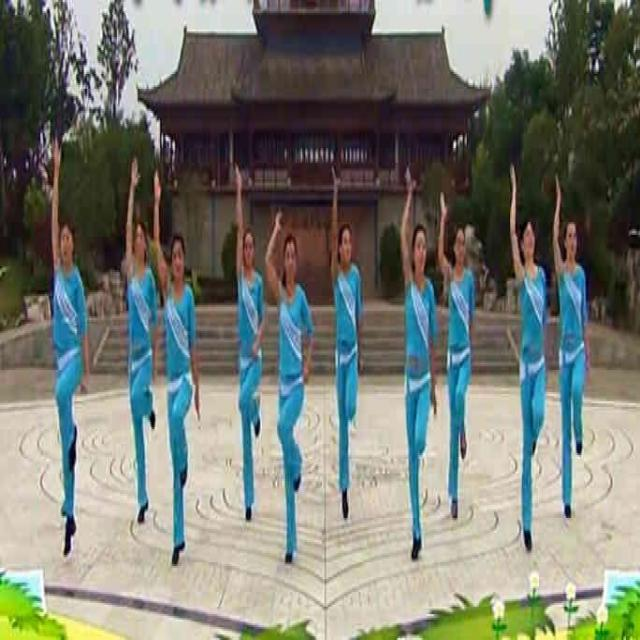non-fight: (150, 167, 204, 566), (318, 142, 369, 526), (391, 156, 437, 580), (548, 168, 600, 533), (502, 152, 549, 549), (47, 127, 89, 568), (262, 207, 312, 564), (431, 177, 479, 522), (119, 151, 159, 525), (229, 160, 266, 526)
